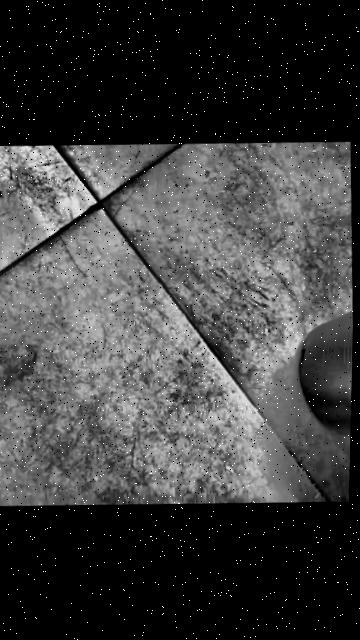pot: (292, 279, 354, 455)
